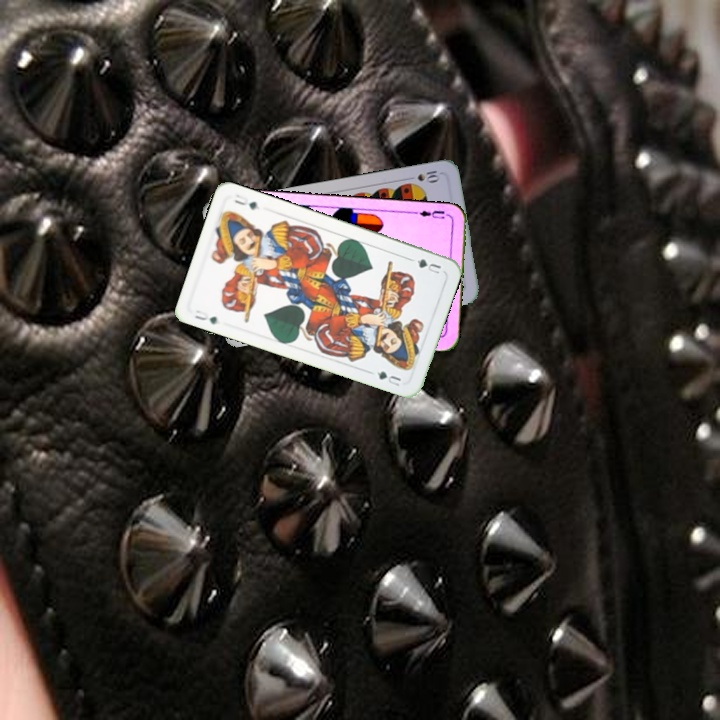EU: (411, 206, 447, 222)
GU: (413, 255, 444, 277), (190, 306, 220, 327)
S10: (413, 166, 443, 185)
